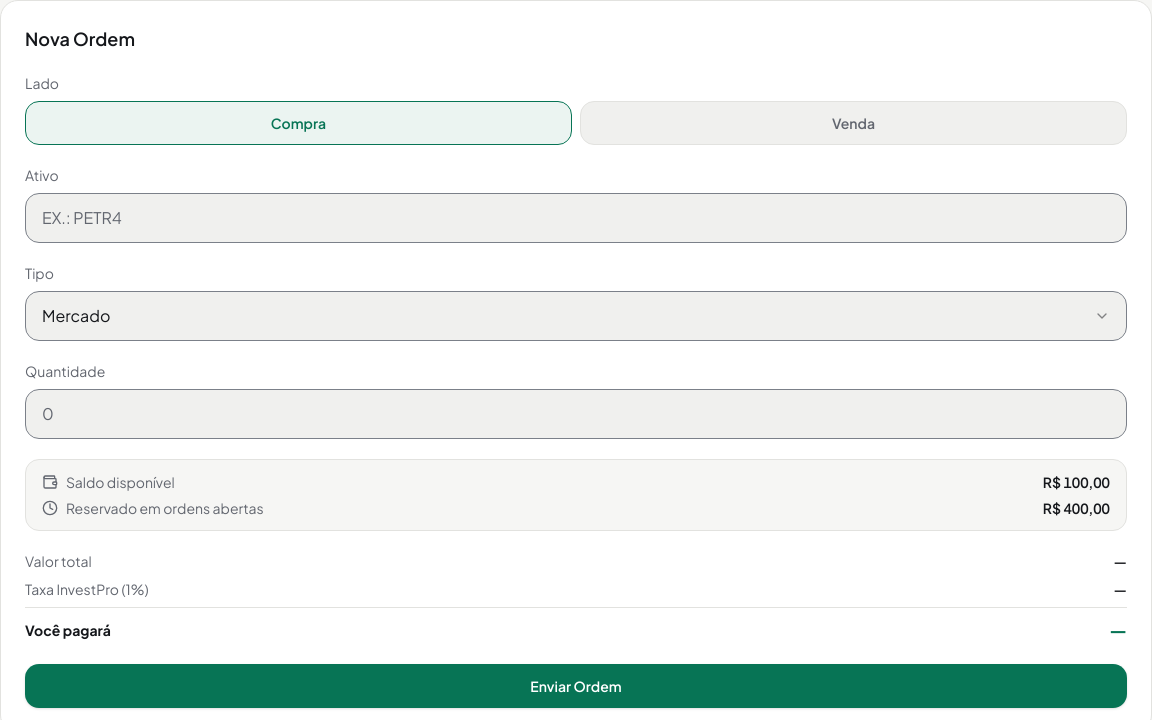
NewOrderForm › saldo verificado antes de enviar (compra) › compra a mercado usa o saldo LIVRE e mostra o reservado em ordens abertas
Step 1. Type "PETR4" into the dropdown with placeholder "ex.: PETR4" → (576, 218), box [25,193,1127,243]
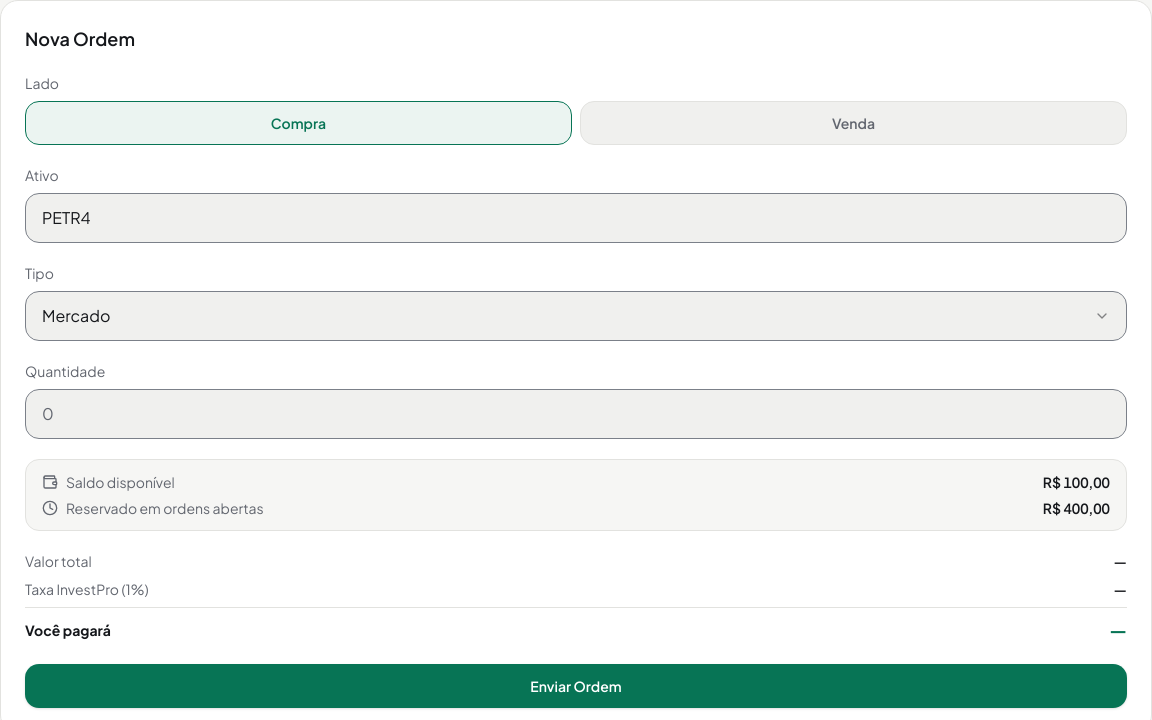
Step 2. Type "10" into the field labelled "Quantidade" → (576, 414), box [25,389,1127,439]
(page scrolled)
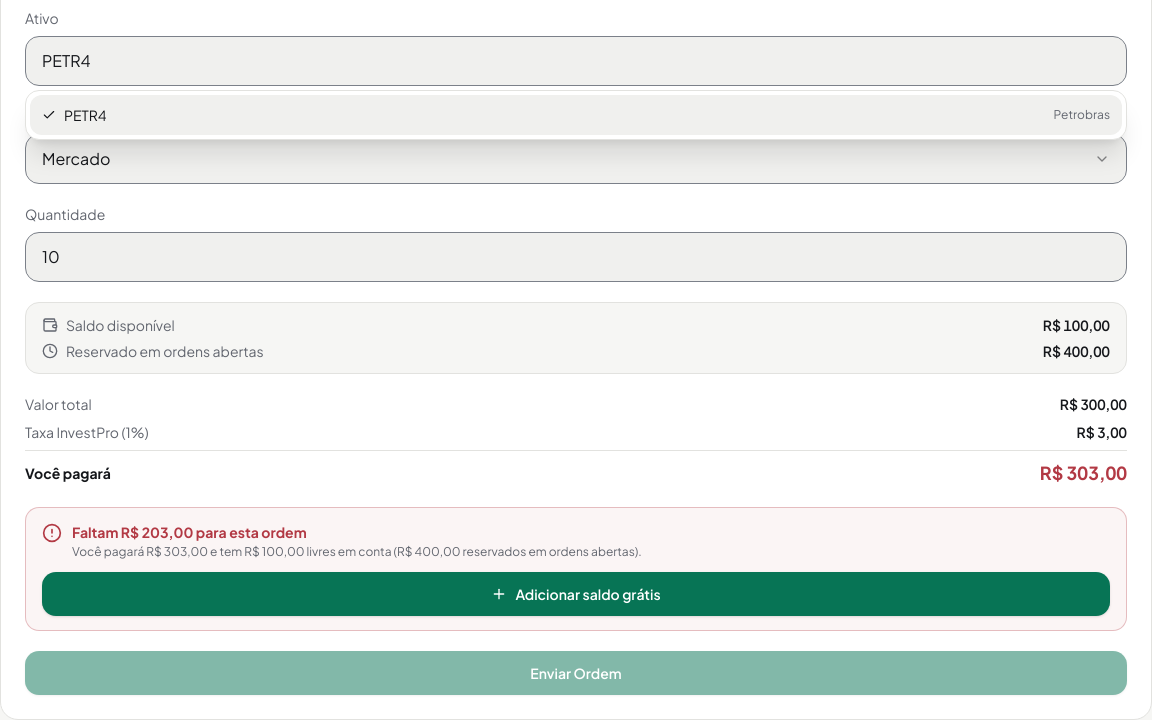
Expected: the text "Reservado em ordens abertas" is shown, [42,341,264,361]
Expected: the button "Enviar Ordem" is disabled, [25,651,1127,695]
